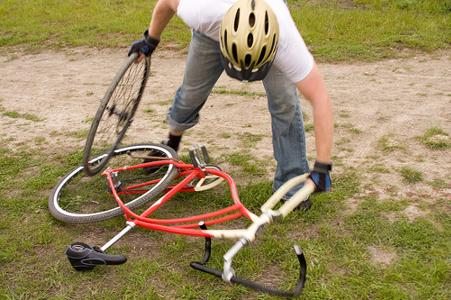person: (126, 1, 335, 215)
